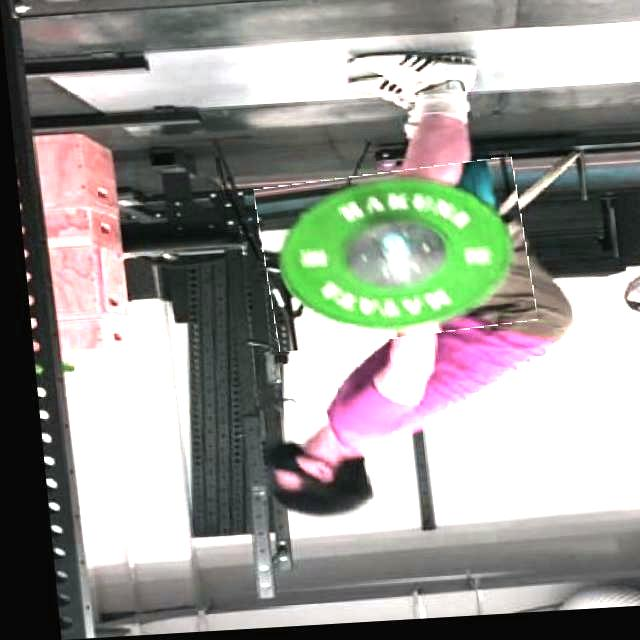barbell: (251, 167, 529, 352)
